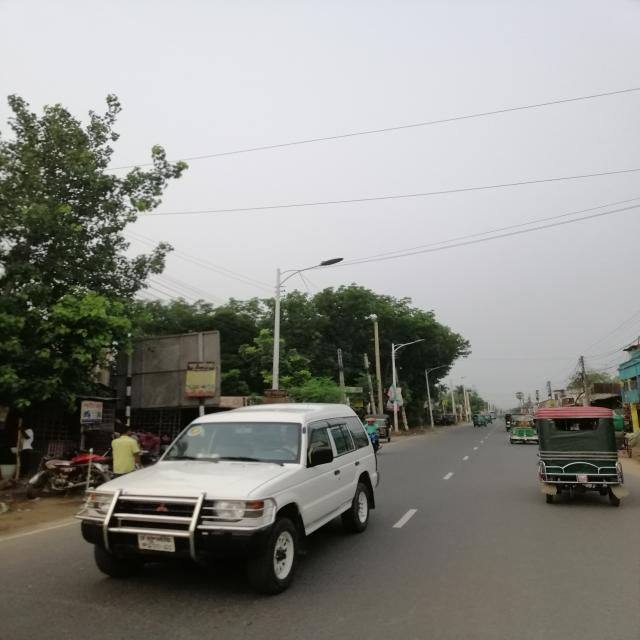Zeep: (73, 396, 383, 598)
